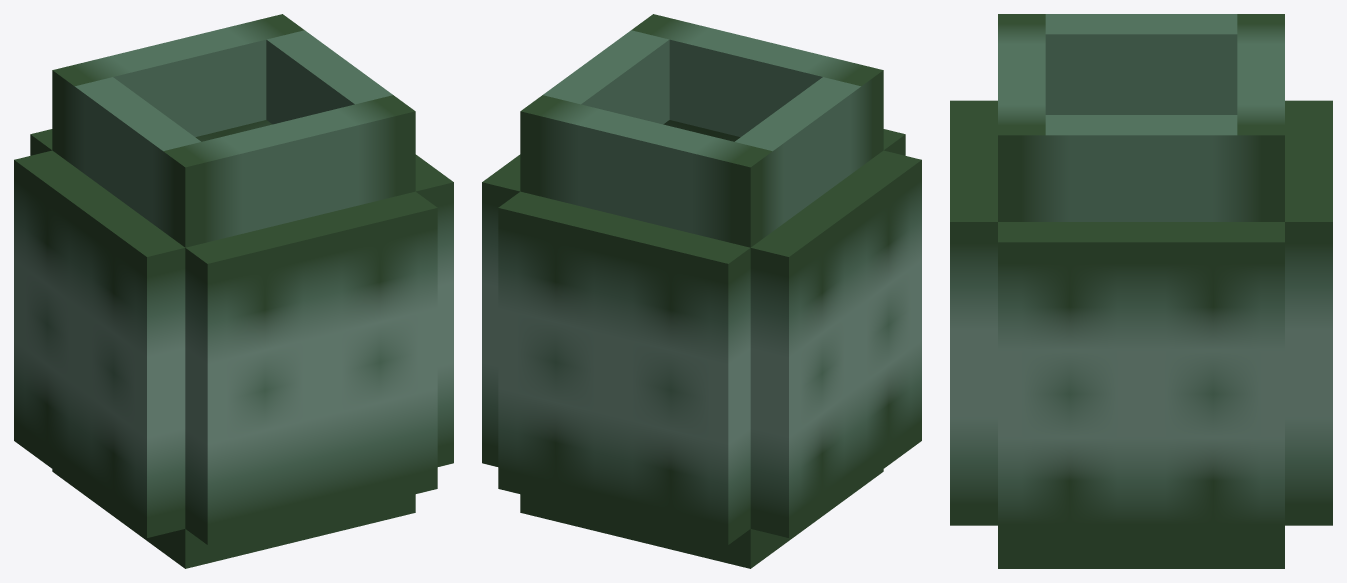
Rendered from vase2.fbx.
3 views of the same model, side by side, from view 1: azimuth 30°, elevation 25°; view 2: azimuth 150°, elevation 25°; view 3: azimuth 270°, elevation 25° (orthographic). The views are drawn at different scales.
Parts seen in each view (by area): view 1: vase2; view 2: vase2; view 3: vase2.
Part boxes in pixels (<box>): vase2: <box>14,14,453,568</box>; vase2: <box>482,14,921,568</box>; vase2: <box>950,14,1332,568</box>.
Size of the model in its own units: 8 by 10 by 8.
Materials: 1 (1 with a texture image).
